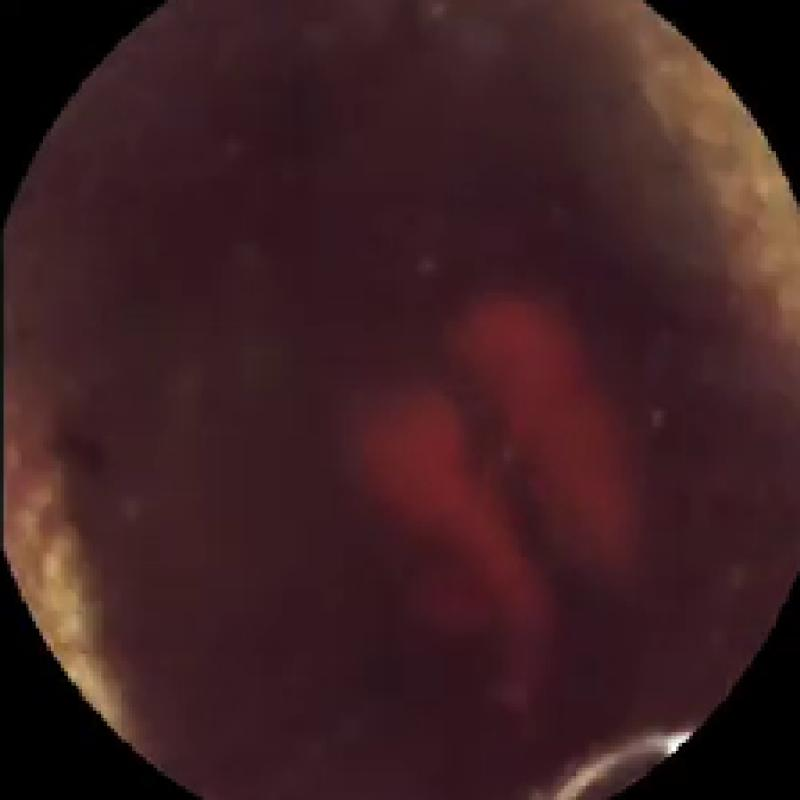bleeding: (343, 293, 657, 646)
